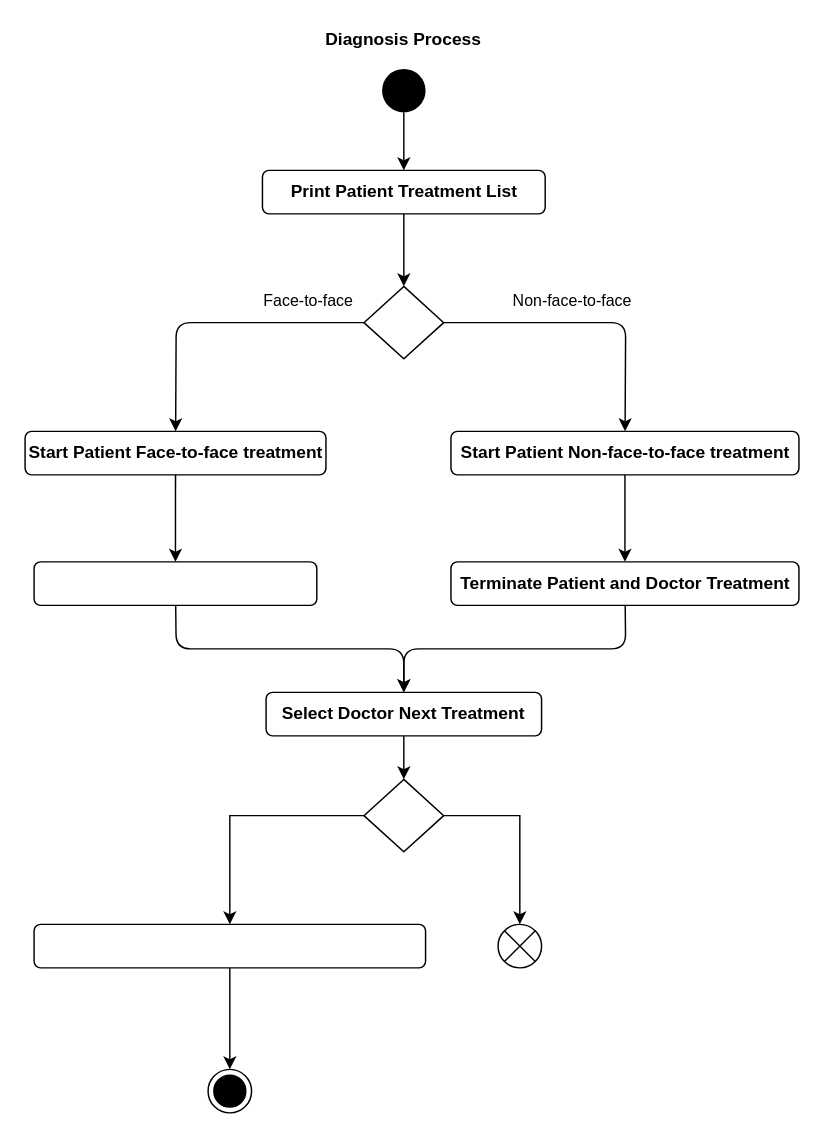
The diagram is 825 pixels wide and 1138 high, and some of its shapes have lost their labels. The shapes that lost their labels are listed below. From the top down, each one's centre as x and y in pixels, then its label:
At point 175,582: "Press Doctor End-button".
At point 229,945: "Input Doctor Information of next treatment".
